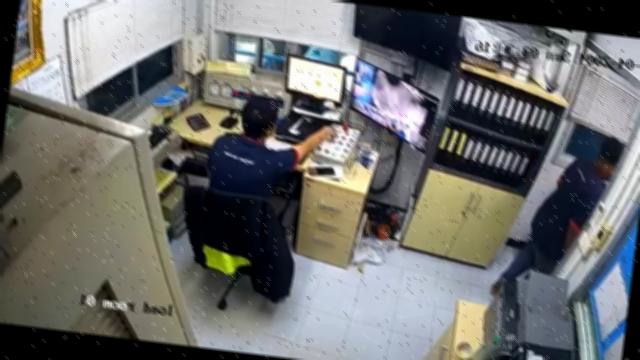Head: (240, 97, 279, 140), (595, 137, 625, 180)
People: (491, 137, 623, 295), (206, 98, 336, 198)
Phone: (312, 166, 335, 176)
